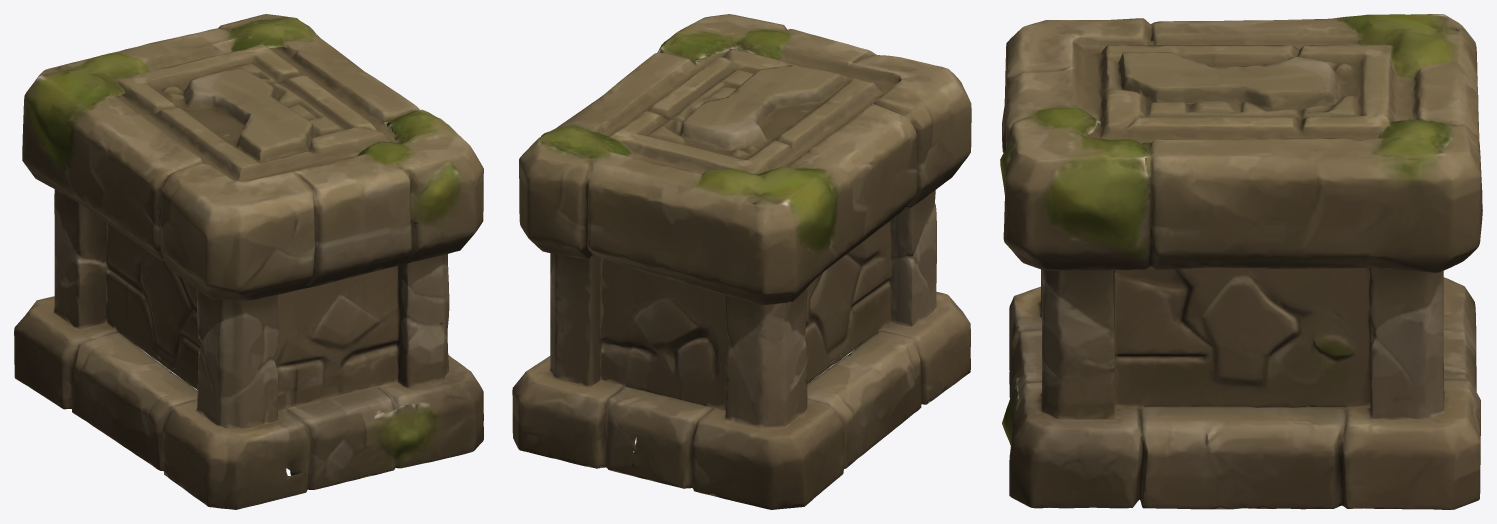
The model's file is ruin_block_t1.glb.
3 views of the same model, side by side, from view 1: azimuth 30°, elevation 25°; view 2: azimuth 150°, elevation 25°; view 3: azimuth 270°, elevation 25° (orthographic). The views are drawn at different scales.
Parts seen in each view (by area): view 1: geometry_0; view 2: geometry_0; view 3: geometry_0.
Part boxes in pixels (bbox=[...]): geometry_0: bbox=[14, 14, 483, 509]; geometry_0: bbox=[512, 14, 971, 509]; geometry_0: bbox=[1000, 14, 1482, 509].
Bounding box in the file's own units: 0.5195 × 0.5142 × 0.6346.
Materials: 1 (1 with a texture image).
